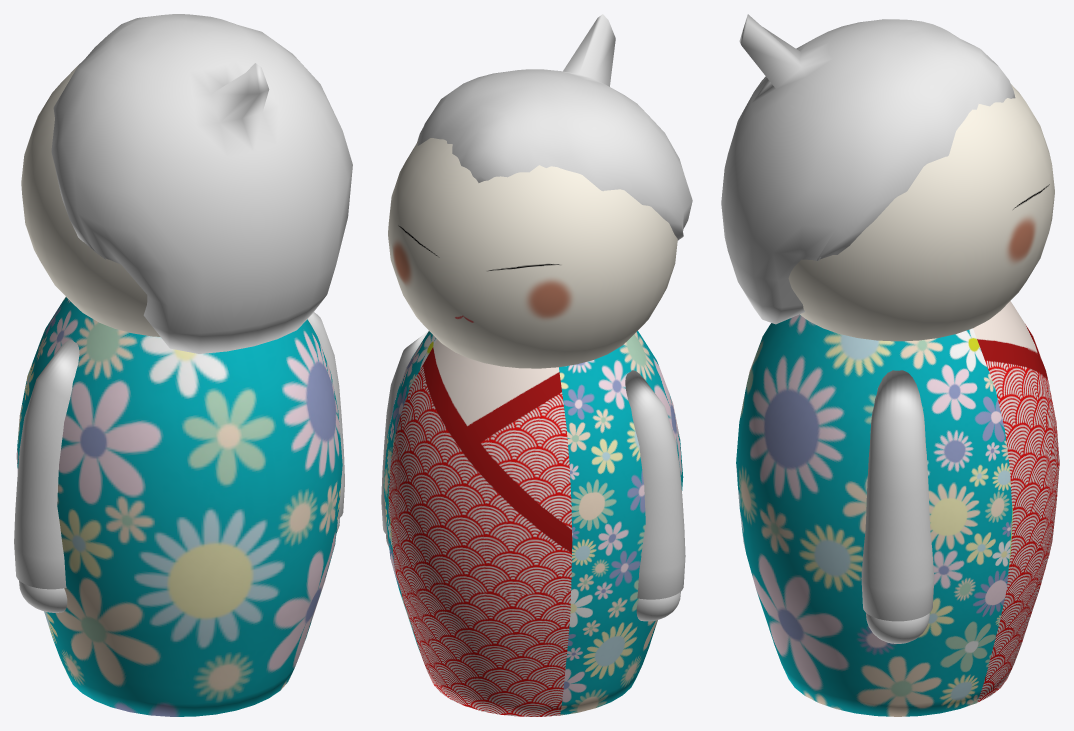
The model's file is Kimmidoll_M.fbx.
3 views of the same model, side by side, from view 1: azimuth 30°, elevation 25°; view 2: azimuth 150°, elevation 25°; view 3: azimuth 270°, elevation 25° (orthographic). The views are drawn at different scales.
Parts seen in each view (by area): view 1: Body.001, Sphere, FaceM, ArmL.001, ArmR.001, HandL.001; view 2: Body.001, FaceM, Sphere, ArmL.001, ArmR.001, HandL.001; view 3: Body.001, Sphere, FaceM, ArmR.001, HandR.001.
Boxes of the visible parts, x1,y1,x2,y2 form: Body.001: (16, 297, 342, 716); Sphere: (51, 14, 352, 353); FaceM: (21, 65, 160, 336); ArmL.001: (14, 339, 79, 589); ArmR.001: (307, 312, 344, 519); HandL.001: (19, 580, 67, 612); Body.001: (383, 331, 683, 716); FaceM: (388, 138, 677, 368); Sphere: (417, 14, 692, 240); ArmL.001: (625, 370, 685, 599); ArmR.001: (381, 331, 428, 535); HandL.001: (636, 592, 680, 621); Body.001: (736, 301, 1059, 716); Sphere: (721, 14, 1015, 324); FaceM: (788, 84, 1054, 341); ArmR.001: (861, 370, 934, 621); HandR.001: (866, 613, 929, 643).
Size of the model in its own units: 200 by 394 by 184.
